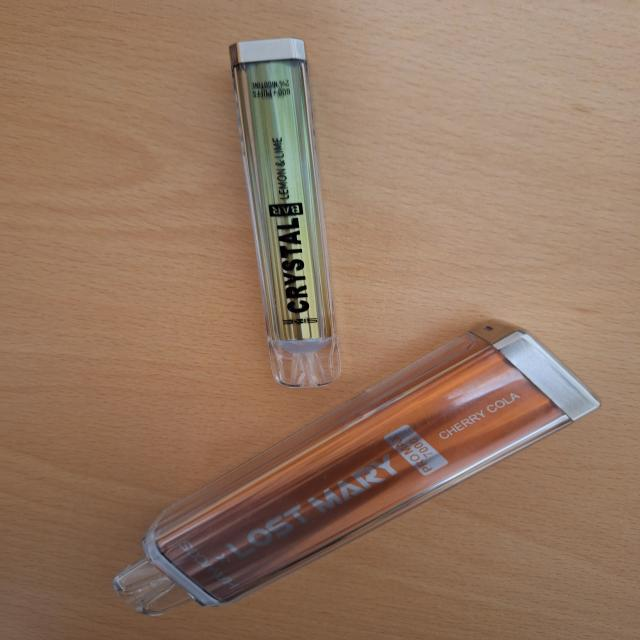Hazard: (112, 317, 601, 617), (227, 36, 342, 388)
